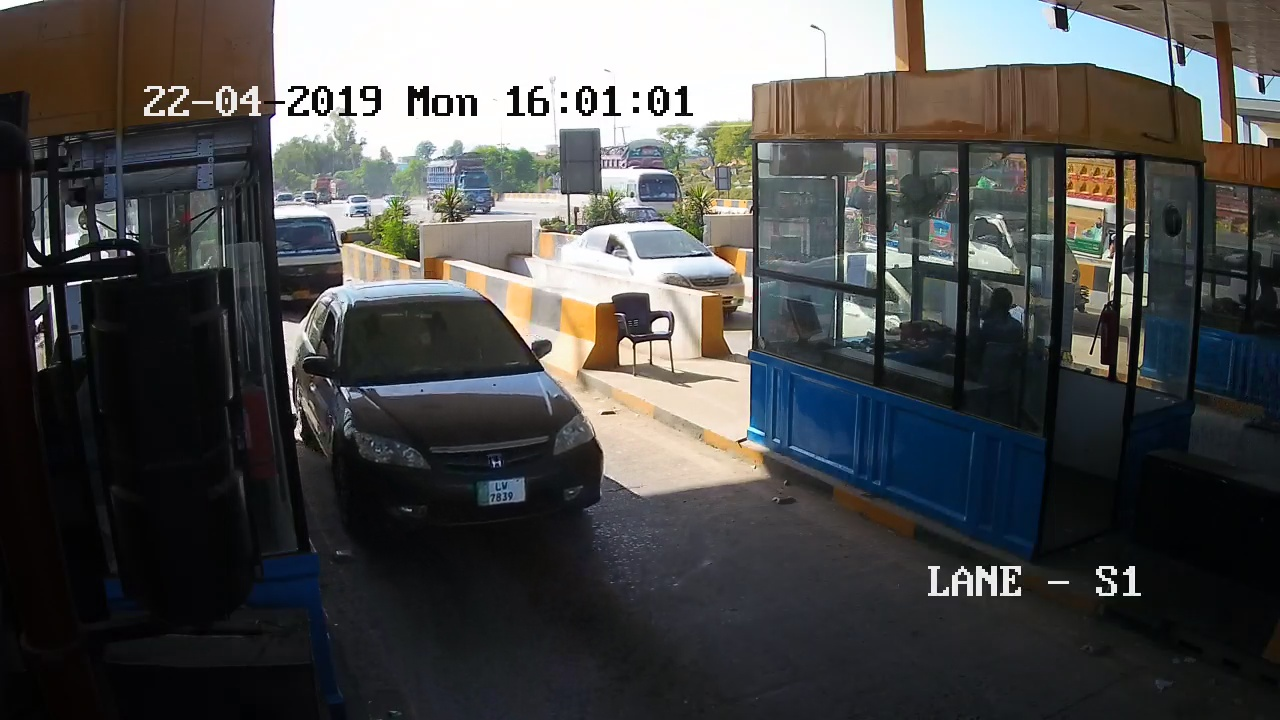car: (295, 289, 619, 563)
